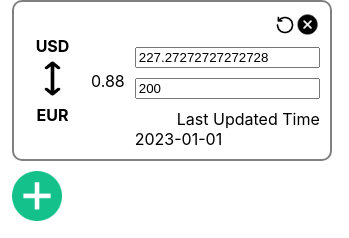
CurrencyConverter component › reverts currencies on revert click
The width and height of the screenshot is (349, 238).
Click the picture with test id "revert-button".
click(285, 24)  # box x1=275 y1=14 x2=295 y2=34
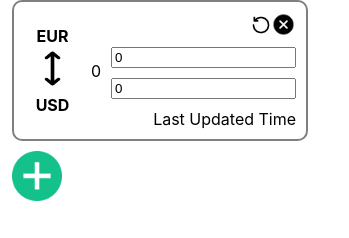
Check: the text with test id "source-currency" reads "EUR", box x1=36 y1=26 x2=68 y2=46
Check: the text with test id "target-currency" reads "USD", box x1=36 y1=95 x2=69 y2=115
